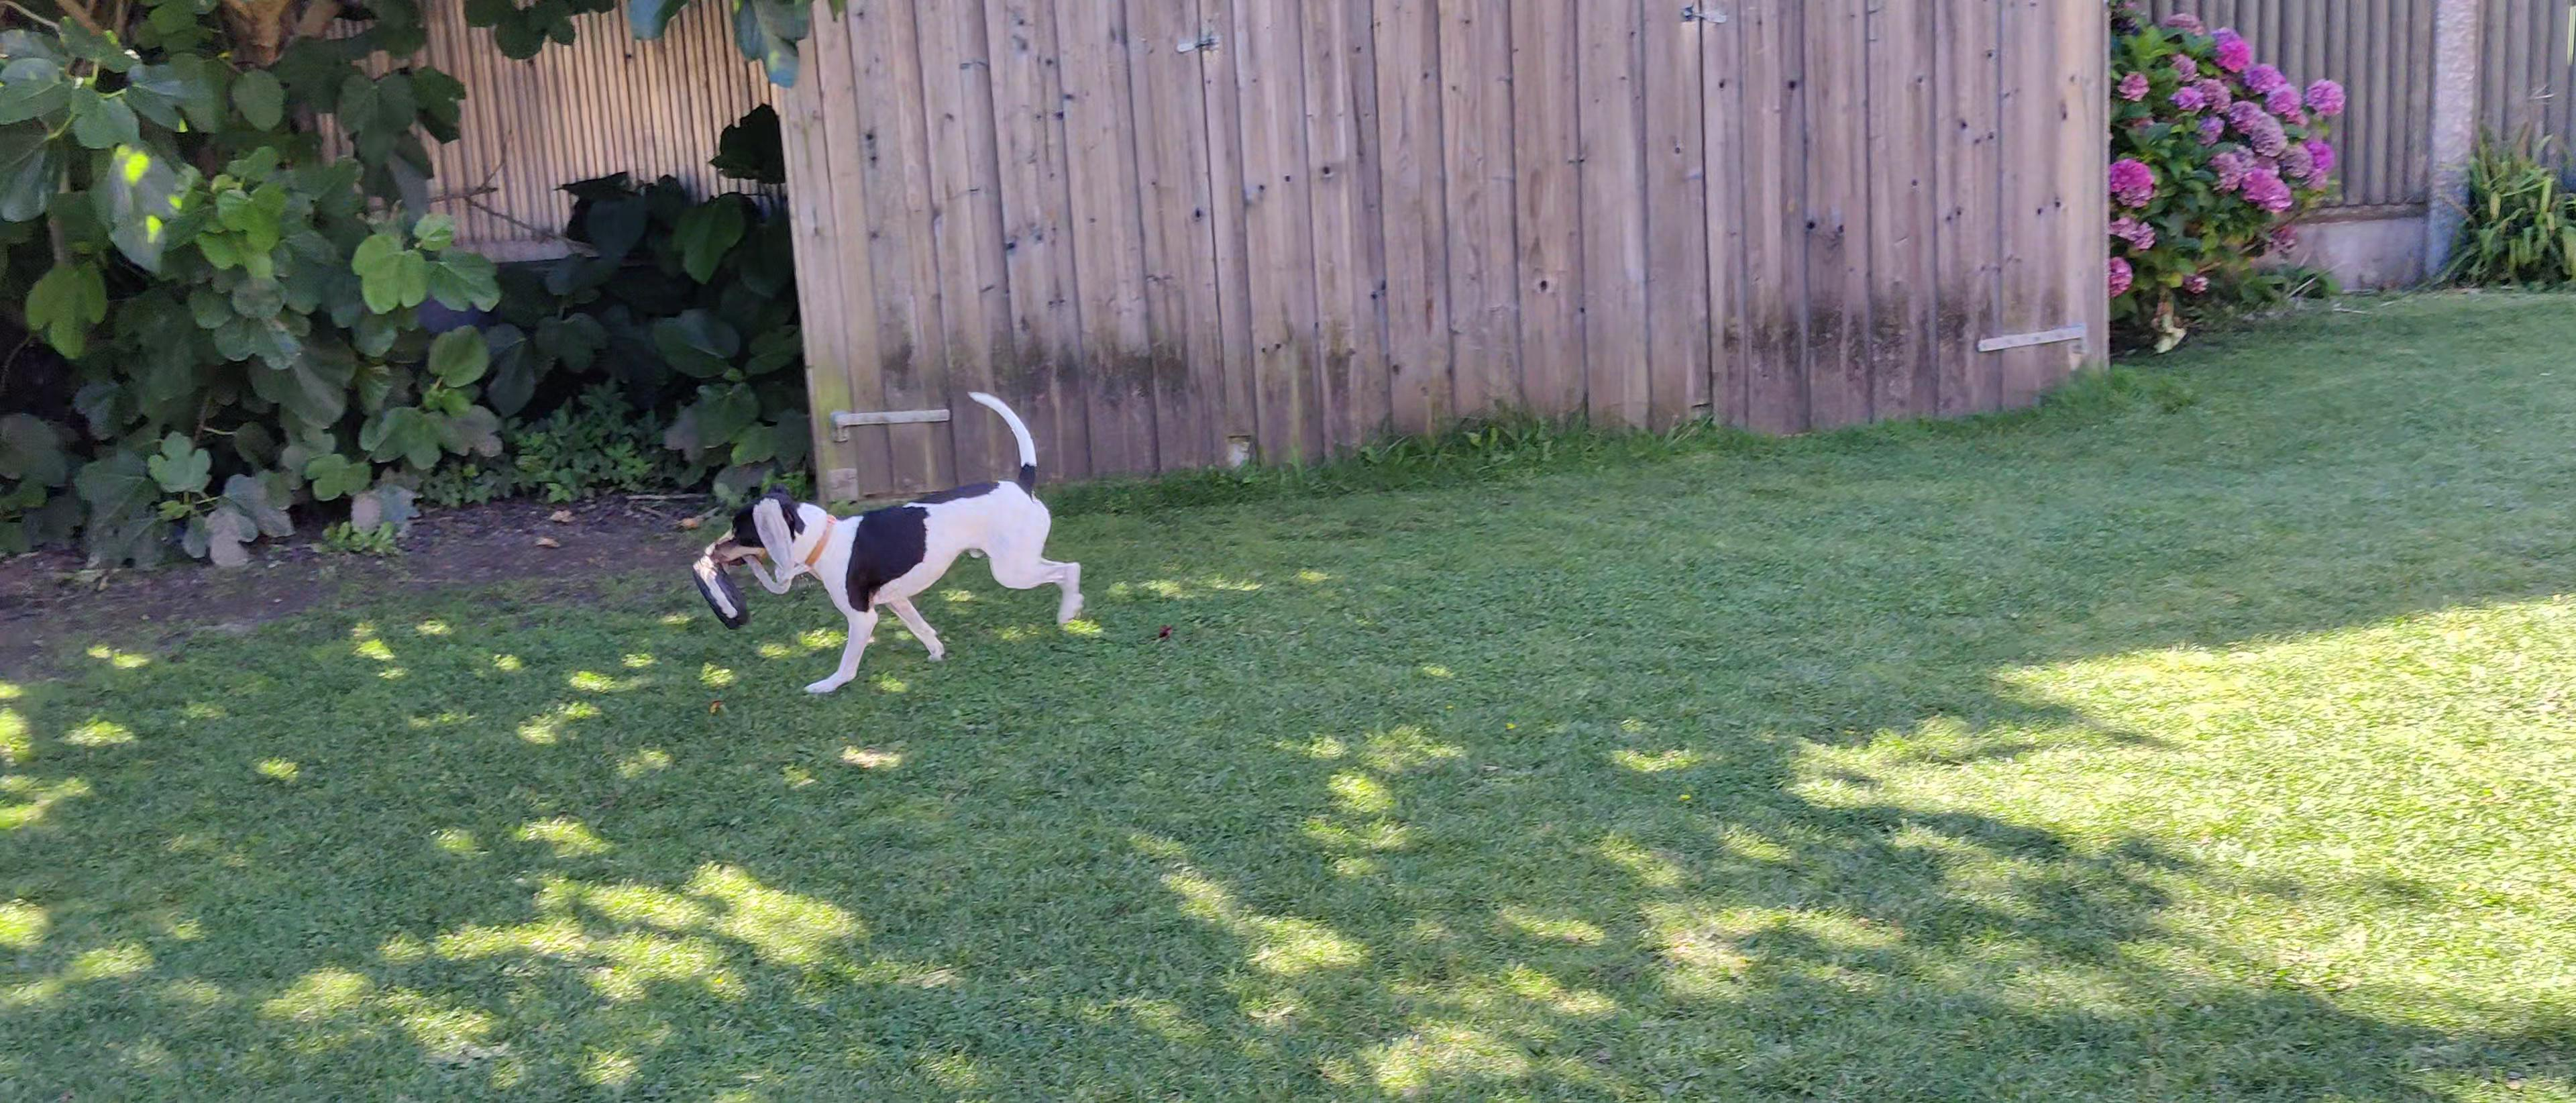Dog: (700, 388, 1092, 700)
